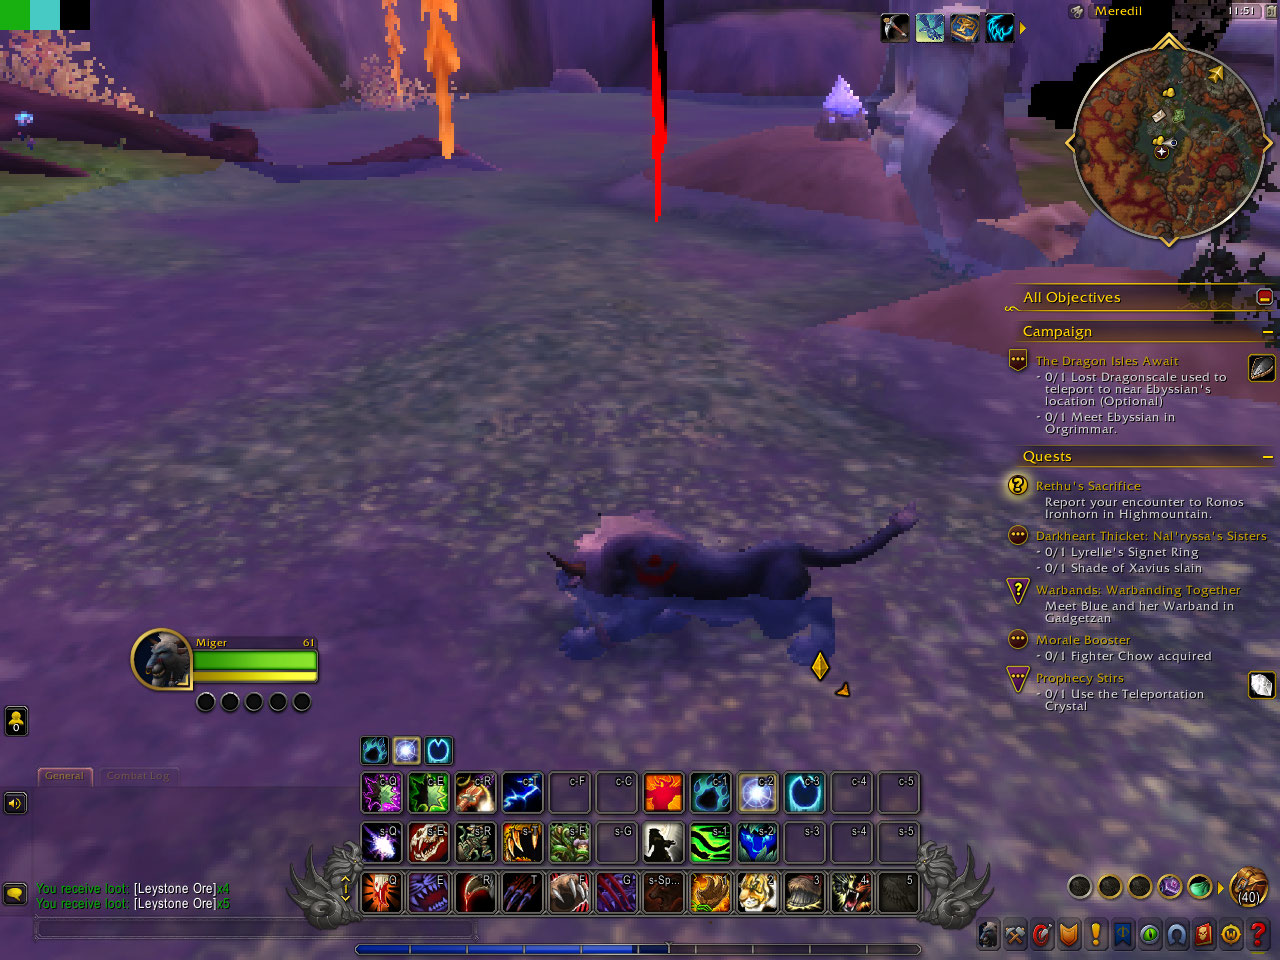ore: (820, 74, 872, 144)
